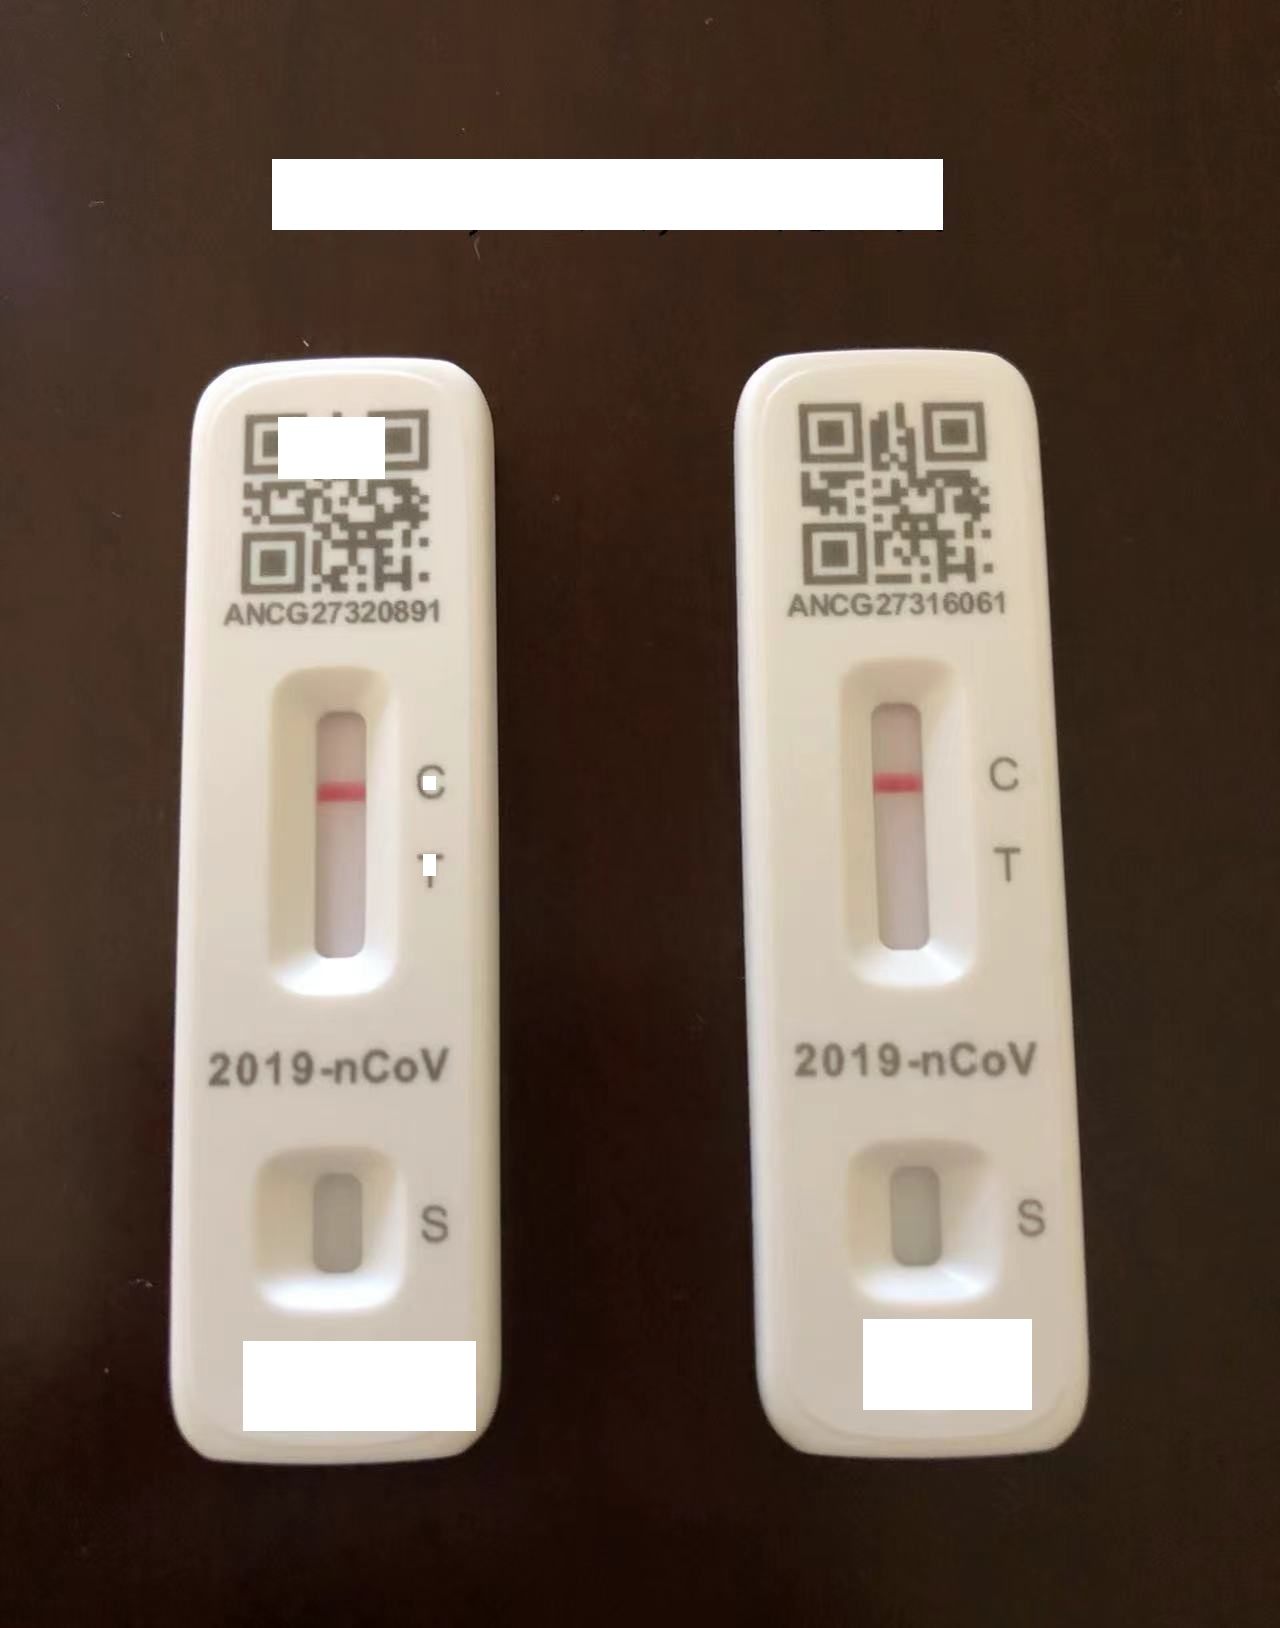negative: (271, 663, 388, 1007), (841, 658, 962, 994)
